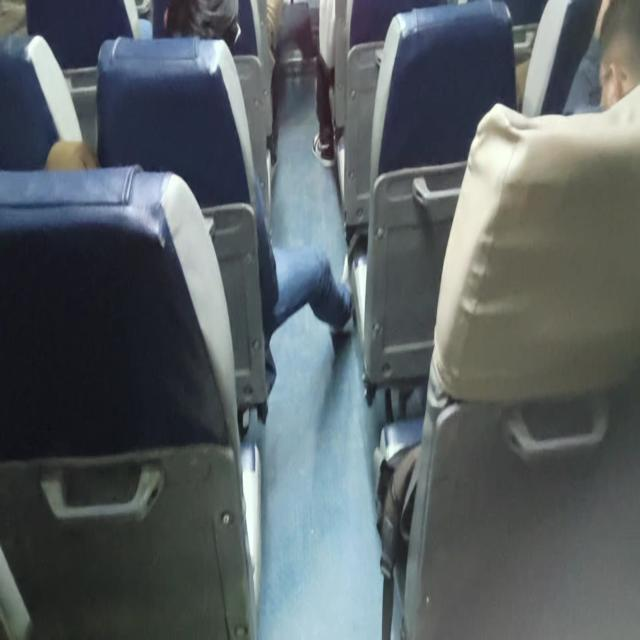person: (583, 0, 640, 112), (163, 0, 255, 62)
